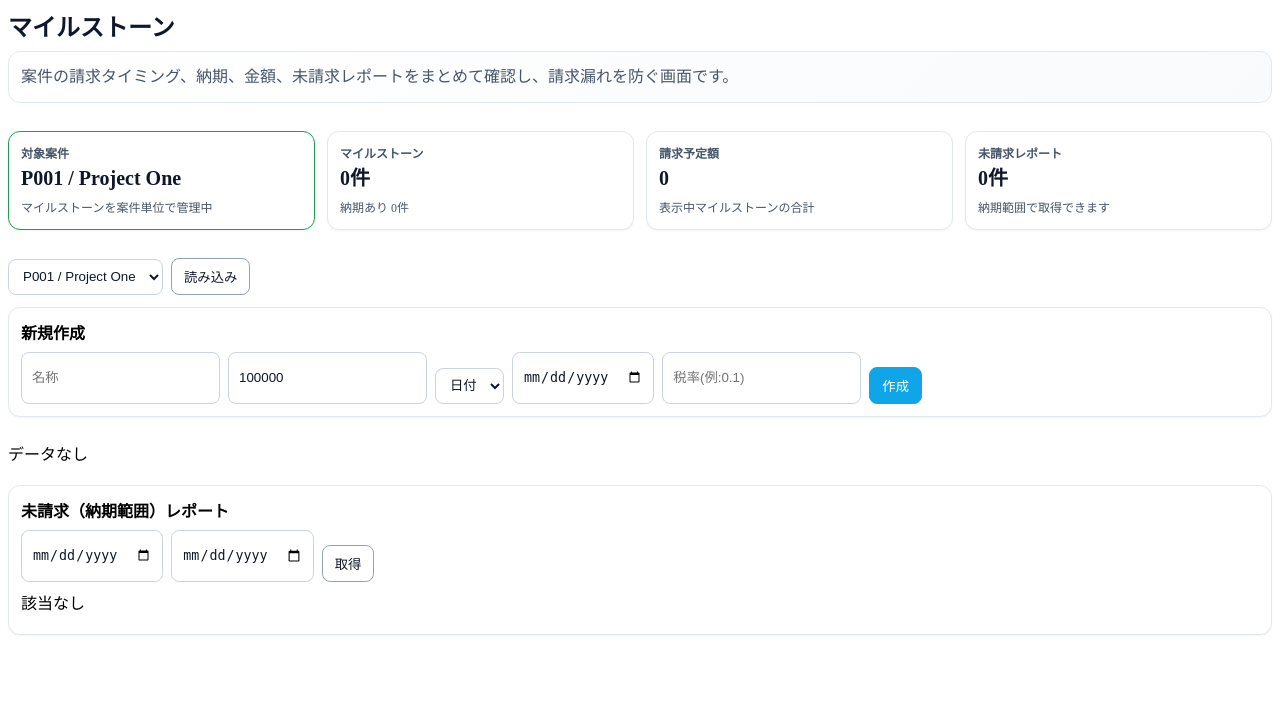
ProjectMilestones › creates a milestone and resets the form
This screenshot has width=1280, height=720.
Type "着手金" into the field labelled "名称" at (120, 378), box [21,352,220,404]
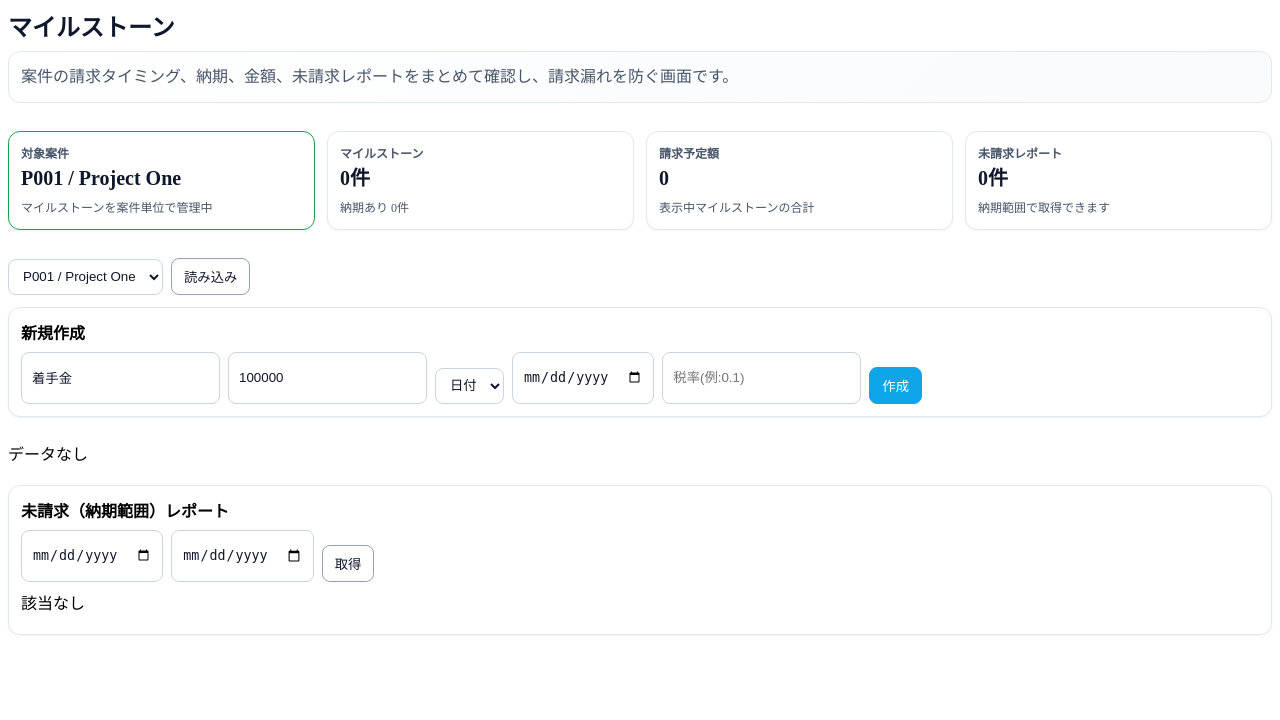
Replace the text in the number field named "金額" with "50000" at (328, 378), box [228,352,427,404]
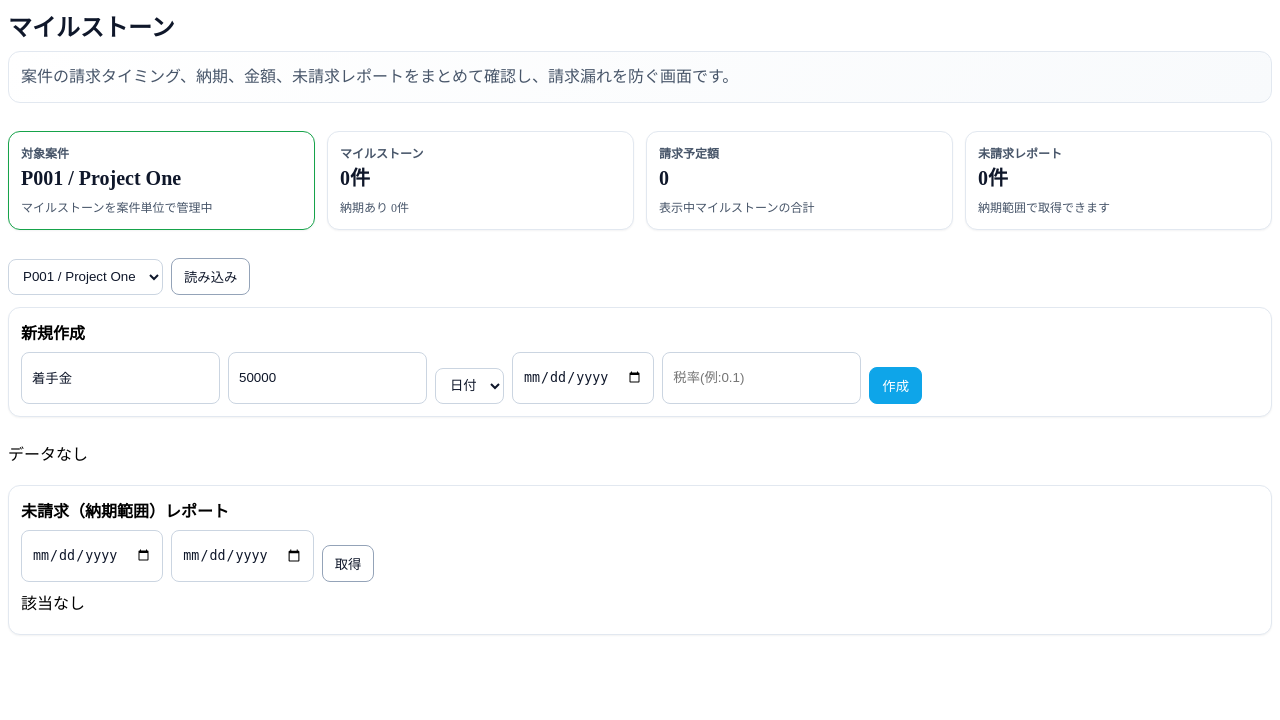
Select "検収" in the dropdown named "請求タイミング" at (470, 386), box [435,368,504,404]
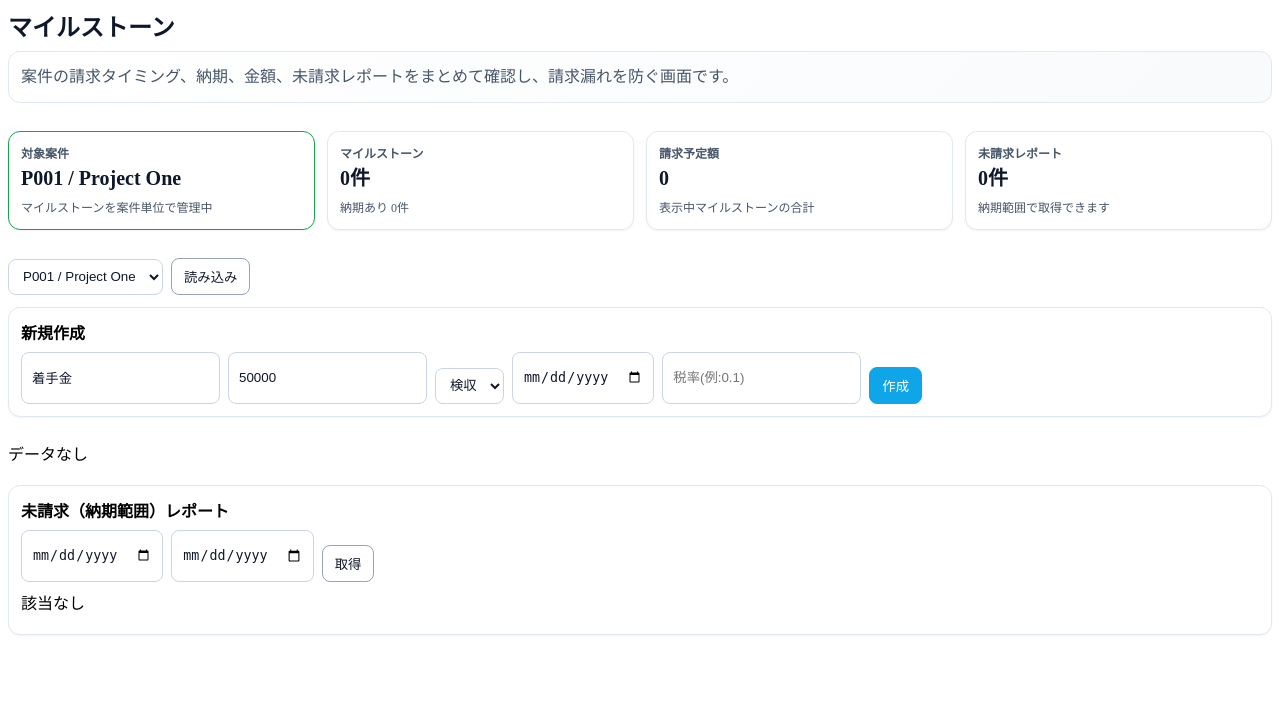
Type "2026-04-15" into the date field named "納期" at (583, 378), box [512,352,654,404]
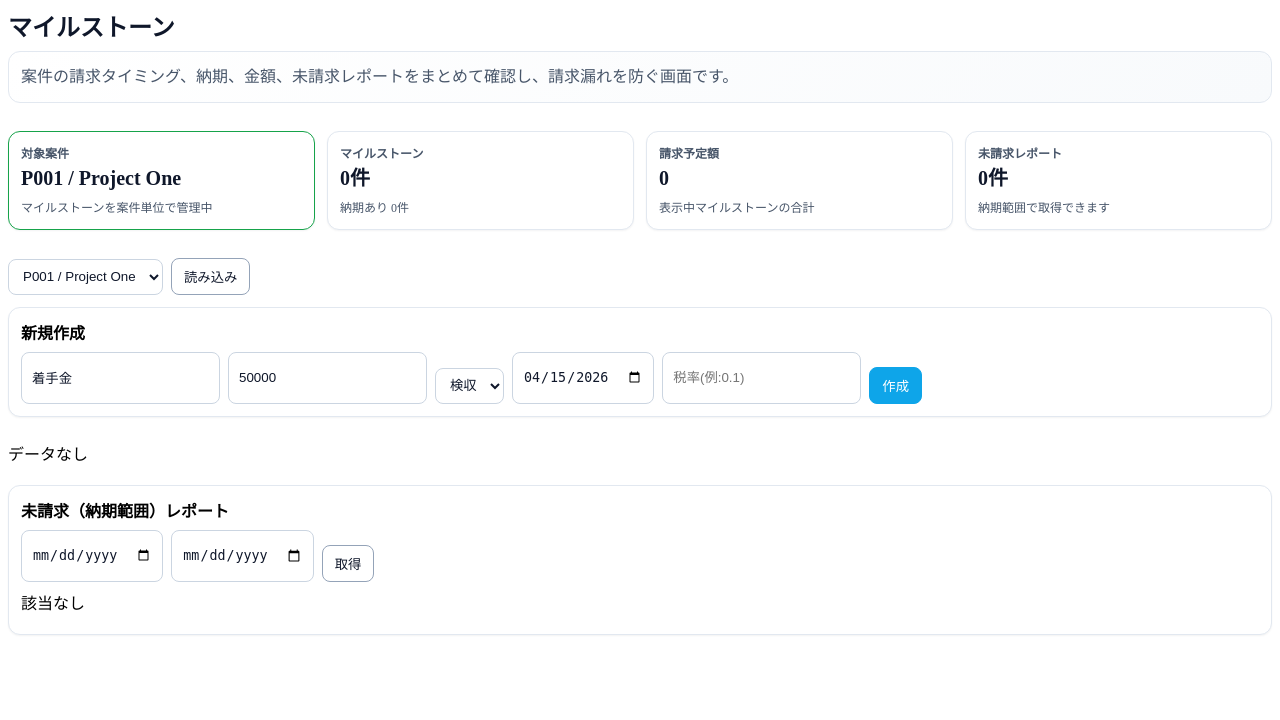
Type "0.1" into the number field labelled "税率" at (762, 378), box [662,352,861,404]
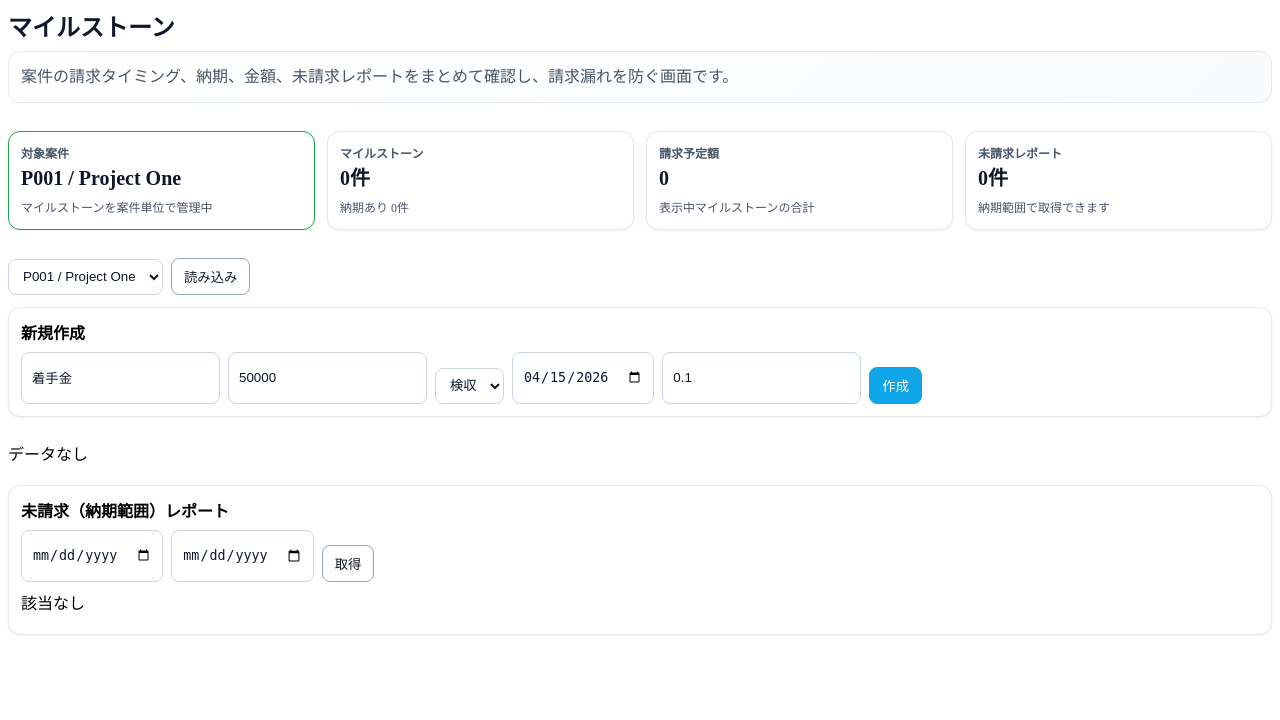
Click the button "作成" at (896, 385), box [869,367,922,404]
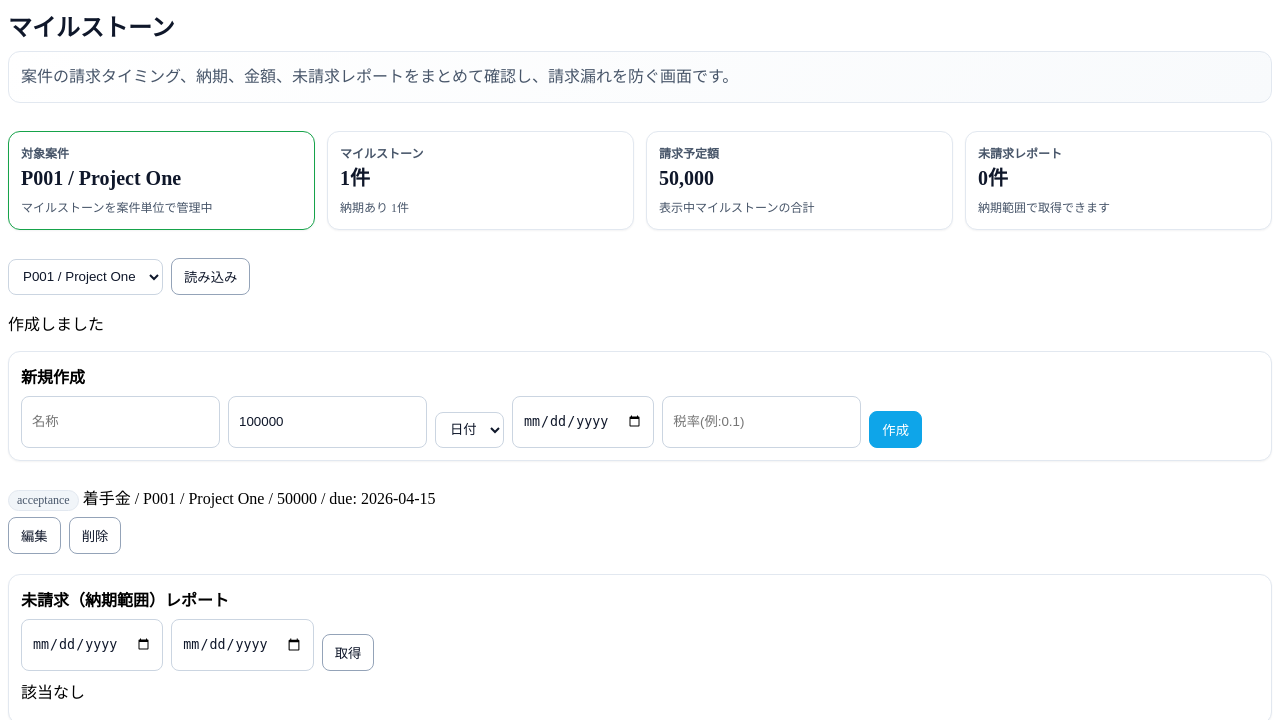
Now the text "作成しました" is shown, box [8,316,104,333]
Now the field labelled "名称" is empty, box [21,396,220,448]
Now the list item "着手金" is shown, box [83,490,131,507]
